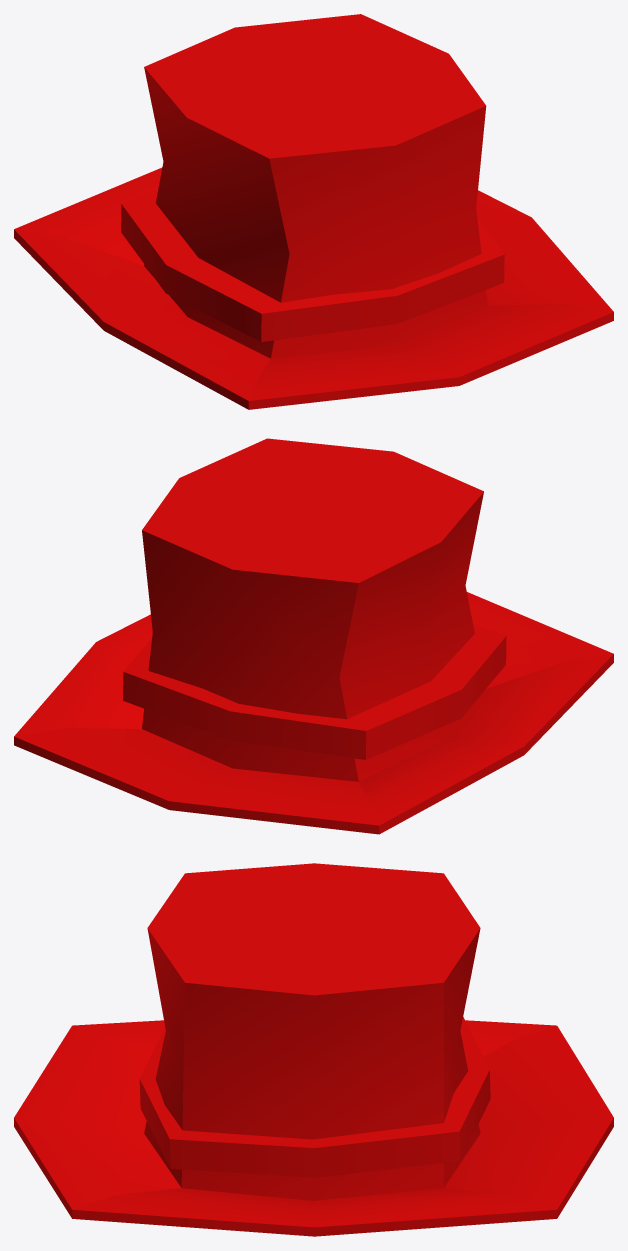
The model's file is Hat.fbx.
The picture shows the model from 3 angles, top to bottom: view 1: azimuth 30°, elevation 25°; view 2: azimuth 150°, elevation 25°; view 3: azimuth 270°, elevation 25°; orthographic projection. The views are drawn at different scales.
Parts seen in each view (by area): view 1: pCube14; view 2: pCube14; view 3: pCube14.
Part boxes in pixels (x1,y1,x2,y2): pCube14: (14,14,613,409); pCube14: (14,438,613,834); pCube14: (14,863,613,1236).
Size of the model in its own units: 32.88 by 14.6 by 38.63.
